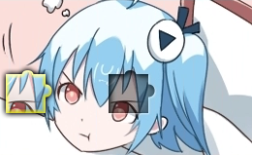gap: (108, 71, 155, 112)
